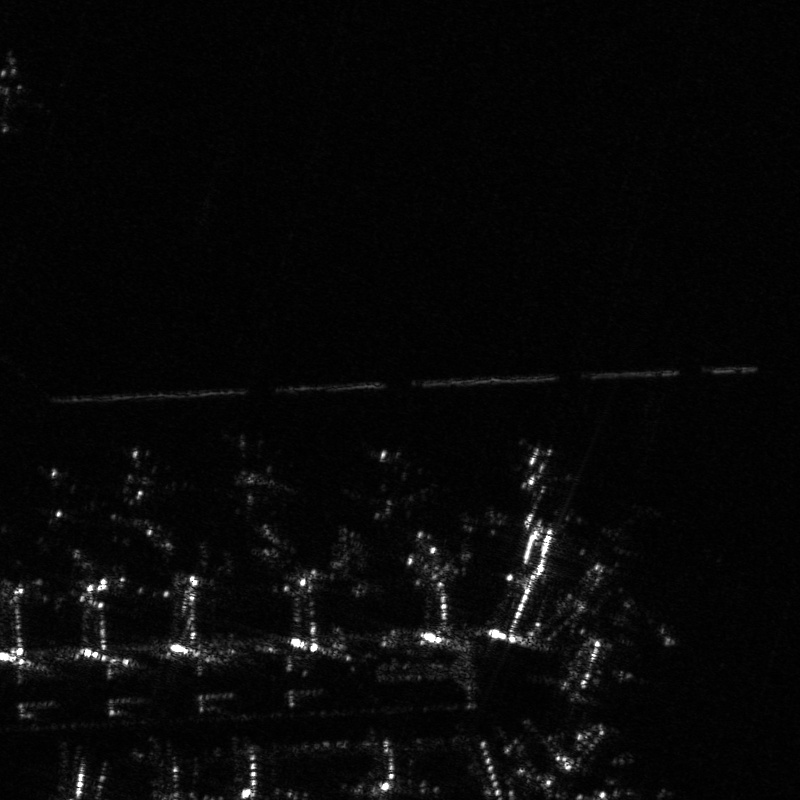A220: (16, 455, 109, 530), (586, 586, 662, 649), (586, 508, 649, 576)
A320/321: (329, 440, 451, 525), (200, 428, 300, 510), (496, 436, 583, 496), (565, 750, 658, 799)
other: (87, 438, 199, 511), (1, 49, 52, 137)
